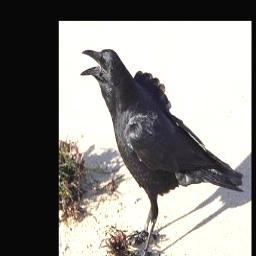Crow: (80, 47, 245, 256)
